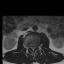CCS_normal: (32, 45, 34, 53)
LFS_severe_stenosis: (35, 44, 37, 49)
LLS_stenosis: (34, 44, 35, 50)
RFS_stenosis: (28, 44, 30, 50)
RLS_stenosis: (30, 45, 32, 50)
